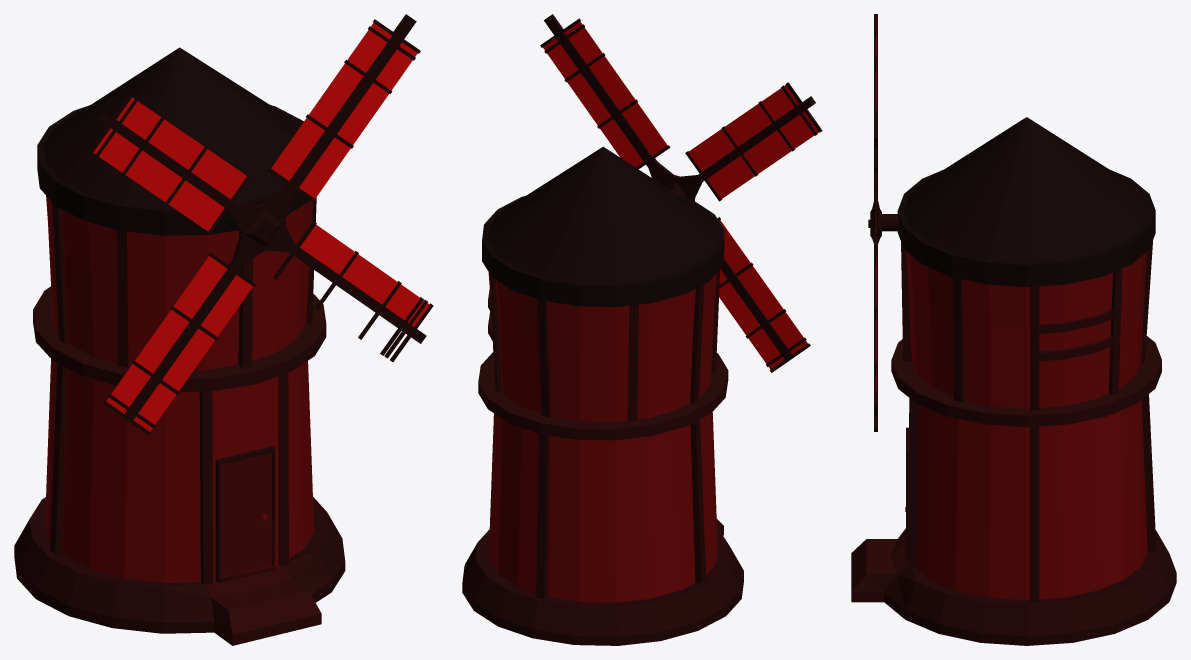
The model's file is WindMIll.fbx.
3 renders of one model, left to right at view 1: azimuth 30°, elevation 25°; view 2: azimuth 150°, elevation 25°; view 3: azimuth 270°, elevation 25°, orthographic. The views are drawn at different scales.
Parts seen in each view (by area): view 1: polySurface78; view 2: polySurface78; view 3: polySurface78.
Part boxes in pixels (x1=…): polySurface78: x1=14, y1=14, x2=433, y2=645; polySurface78: x1=462, y1=14, x2=822, y2=645; polySurface78: x1=851, y1=14, x2=1176, y2=645.
Bounding box in the file's own units: 669 × 1076 × 609.
